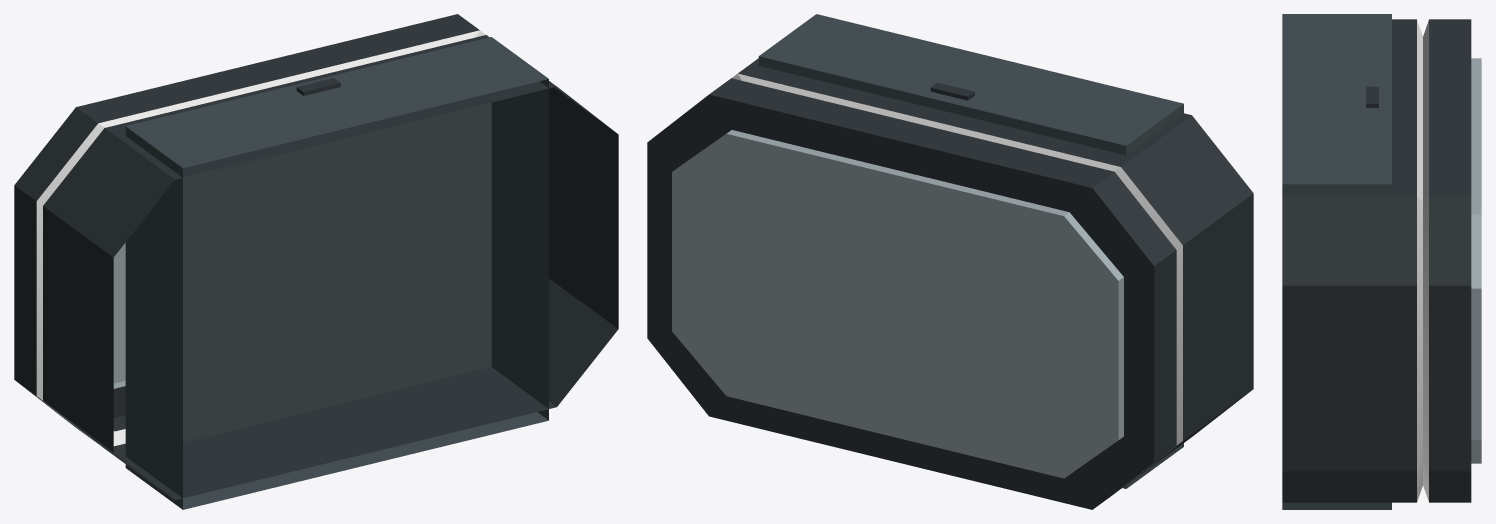
Rendered from Coffee Table 01.FBX.
The picture shows the model from 3 angles, left to right: view 1: azimuth 30°, elevation 25°; view 2: azimuth 150°, elevation 25°; view 3: azimuth 270°, elevation 25°; orthographic projection. The views are drawn at different scales.
Visible parts, largest first — view 1: Coffee Table 01; view 2: Coffee Table 01; view 3: Coffee Table 01.
Boxes of the visible parts, x1,y1,x2,y2 form: Coffee Table 01: (14, 14, 618, 509); Coffee Table 01: (647, 14, 1253, 509); Coffee Table 01: (1282, 14, 1481, 509).
Bounding box in the file's own units: 182 × 120 × 65.3.
1 material, 1 textured.
